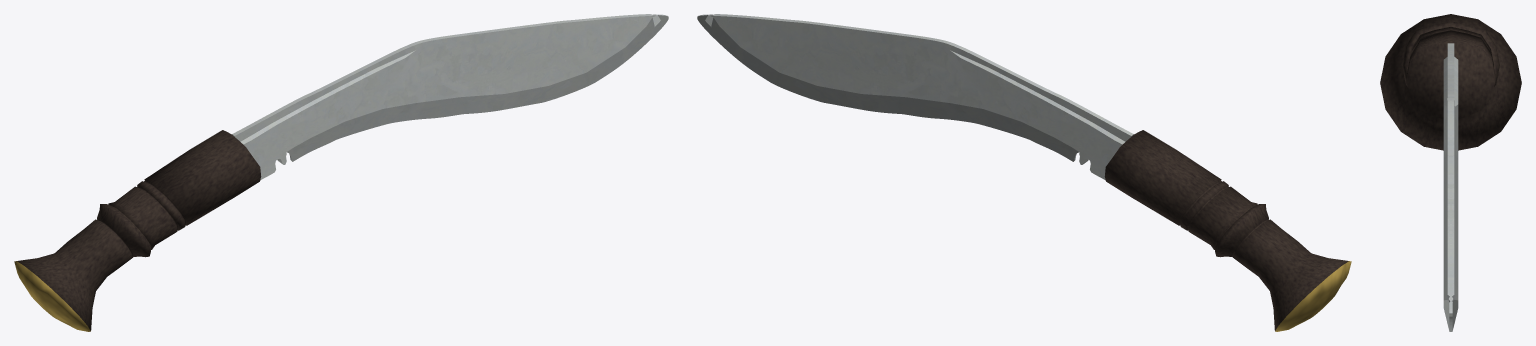
File: nepali_khukuri.glb
3 renders of one model, left to right at view 1: azimuth 30°, elevation 25°; view 2: azimuth 150°, elevation 25°; view 3: azimuth 270°, elevation 25°, orthographic. The views are drawn at different scales.
Parts seen in each view (by area): view 1: BezierCurve, Plane; view 2: BezierCurve, Plane; view 3: Plane, BezierCurve.
Part boxes in pixels (left/top/right/bottom): BezierCurve: left=232, top=14, right=668, bottom=179; Plane: left=14, top=130, right=261, bottom=331; BezierCurve: left=697, top=14, right=1133, bottom=179; Plane: left=1104, top=130, right=1351, bottom=331; Plane: left=1380, top=14, right=1521, bottom=150; BezierCurve: left=1443, top=43, right=1458, bottom=331.
Bounding box in the file's own units: 3.97 × 1.19 × 0.5607.
Materials: 3 (3 with a texture image).
